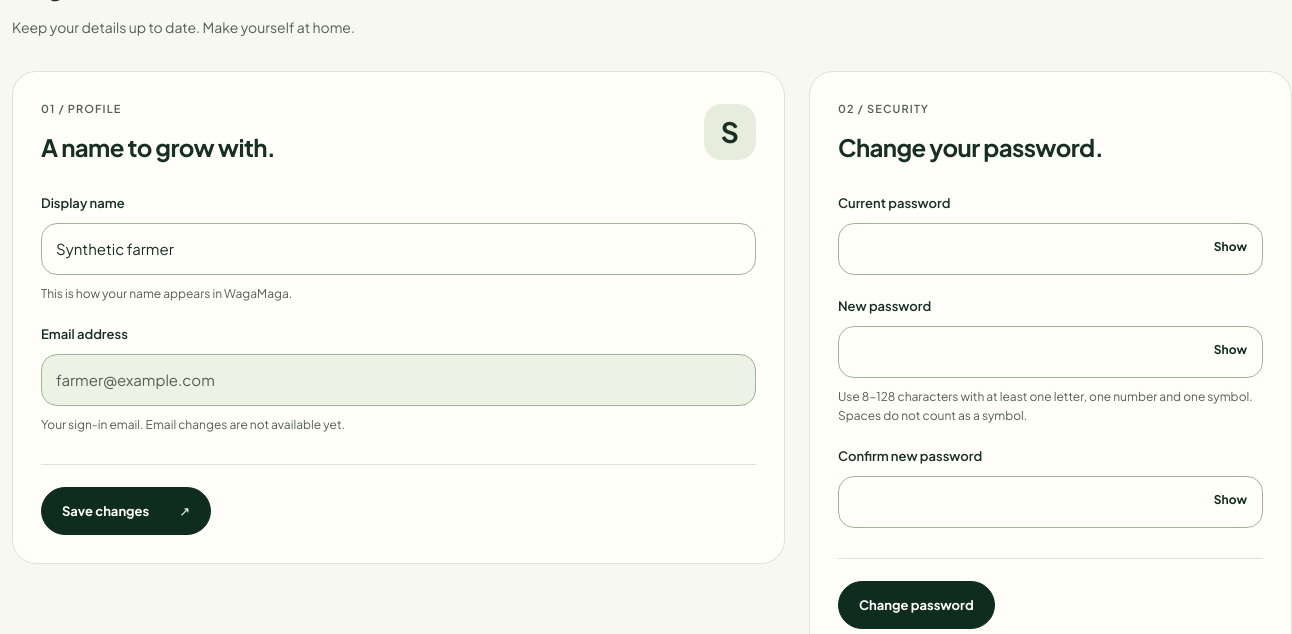
Test: validates matching password policy and submits the current password securely
Type "old synthetic password" into the password field labelled "Current password" at coordinates (1050, 249), box [838,223,1263,275]
Type "new synthetic password" into the password field labelled "New password" at coordinates (1050, 352), box [838,326,1263,378]
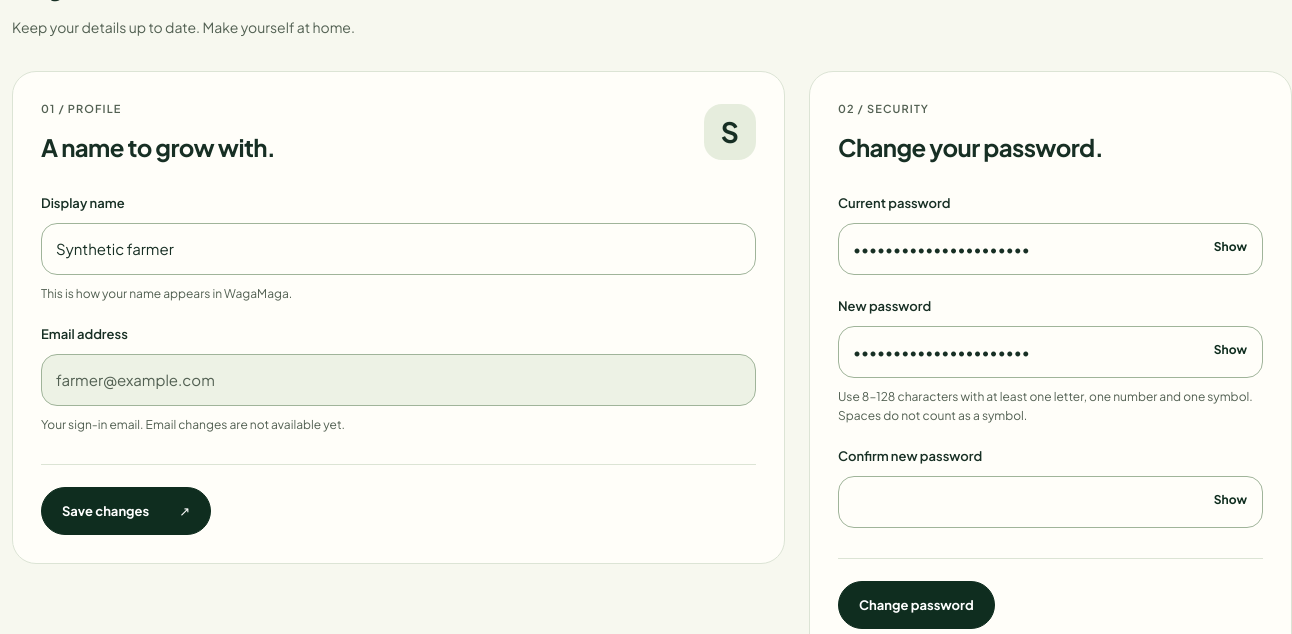
Type "new synthetic password" into the password field labelled "Confirm new password" at coordinates (1050, 502), box [838,476,1263,528]
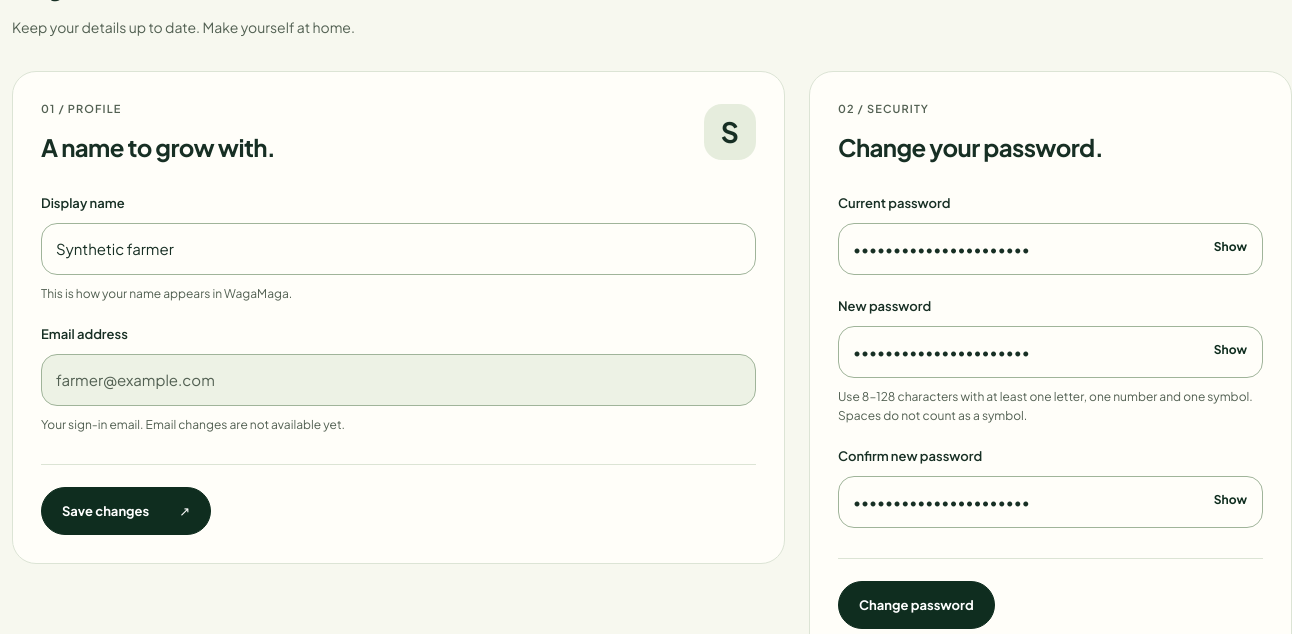
Click the button "Change password" at coordinates (916, 605), box [838,581,995,629]
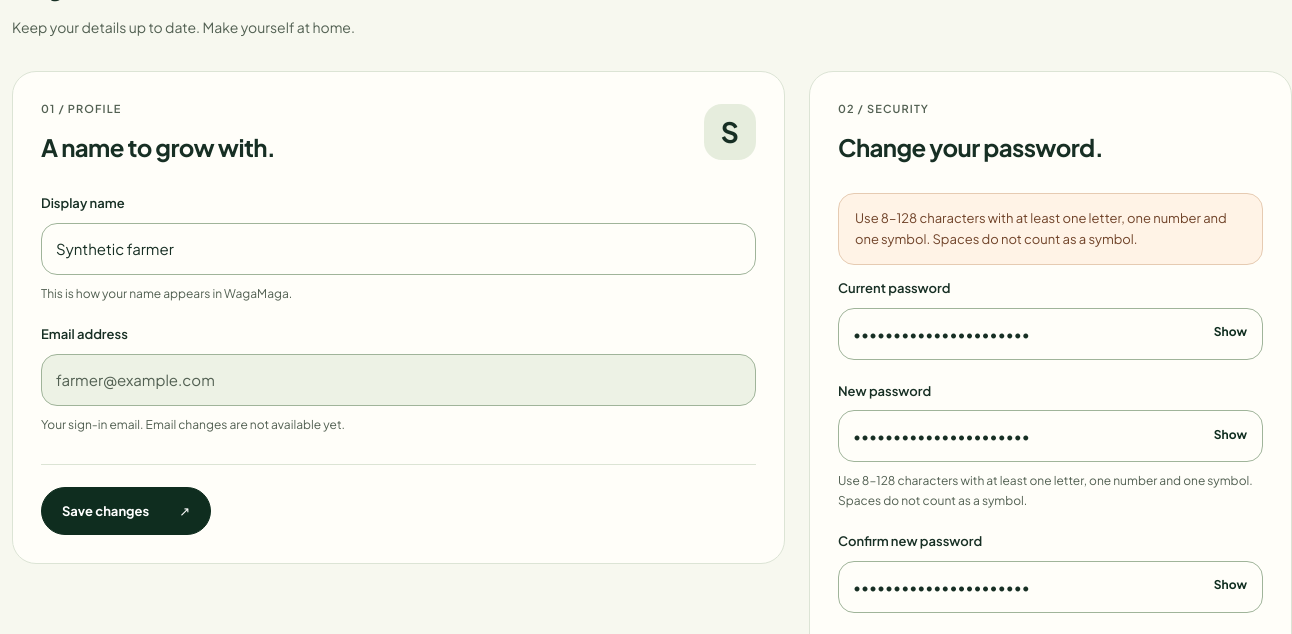
Expected: the message shows "at least one letter", [855,210,1227,247]
Type "new!letter123" into the password field labelled "New password" at coordinates (1050, 436), box [838,410,1263,462]
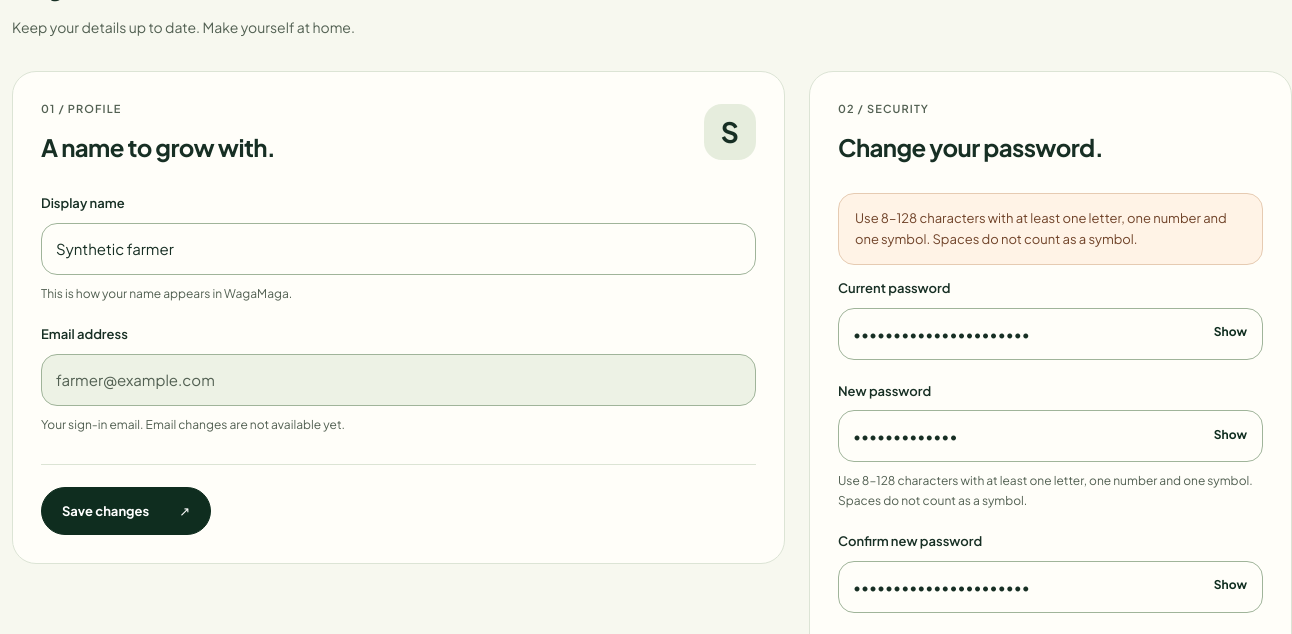
Type "new!letter123" into the password field labelled "Confirm new password" at coordinates (1050, 587), box [838,561,1263,613]
(page scrolled)
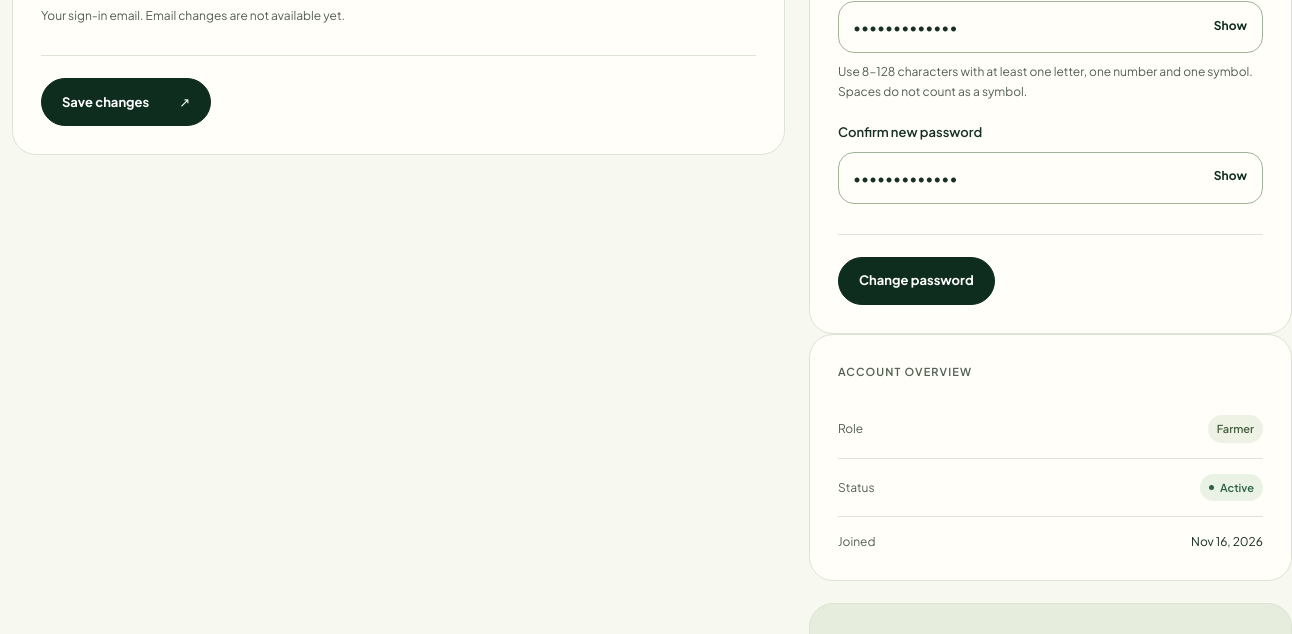
Click the button "Change password" at coordinates (916, 281), box [838,257,995,305]
(page scrolled)
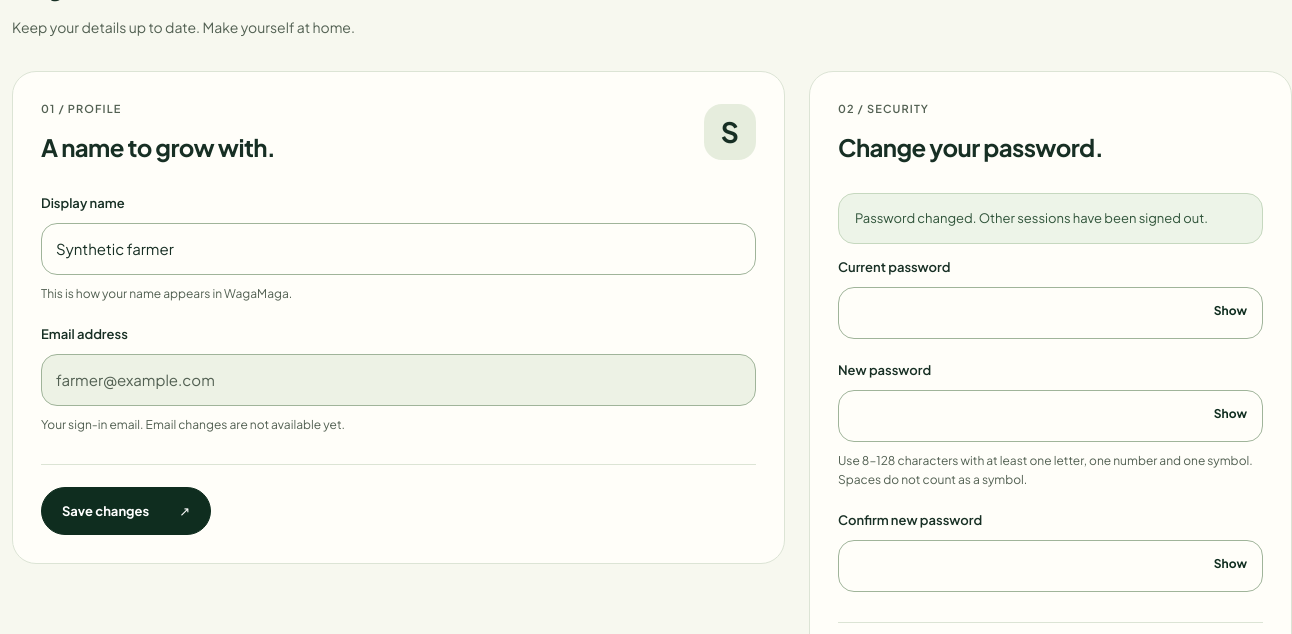
Expected: the message shows "Password changed", [855,210,1208,226]
